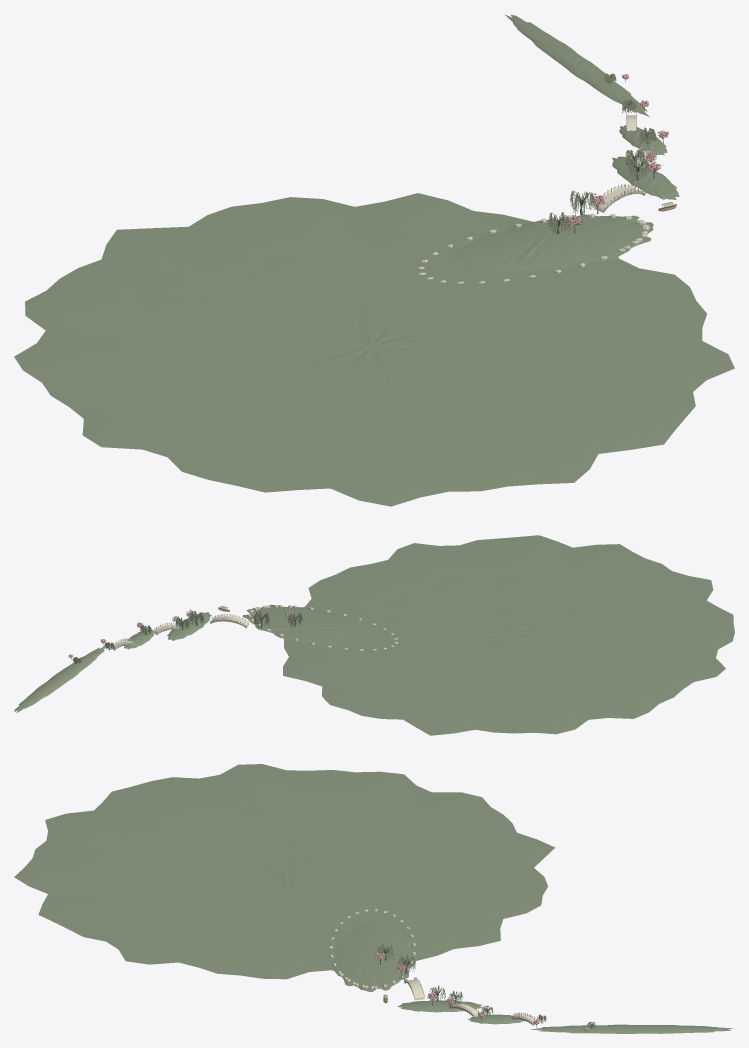
The model's file is su-causeway.glb.
3 renders of one model, top to bottom at view 1: azimuth 30°, elevation 25°; view 2: azimuth 150°, elevation 25°; view 3: azimuth 270°, elevation 25°, orthographic. The views are drawn at different scales.
Visible parts, largest first — view 1: earth, leaf1; view 2: earth, leaf1, stoneedge, stone; view 3: earth, stoneedge, leaf0.
Part boxes in pixels (x1,y1,x2,y2): earth: (14,14,734,506); leaf1: (548,73,656,234); earth: (14,535,734,735); leaf1: (72,611,302,664); stoneedge: (113,614,248,648); stone: (112,604,397,650); earth: (14,764,733,1033); stoneedge: (404,977,536,1023); leaf0: (378,944,595,1027).
Size of the model in its own units: 247 by 7.65 by 277.
